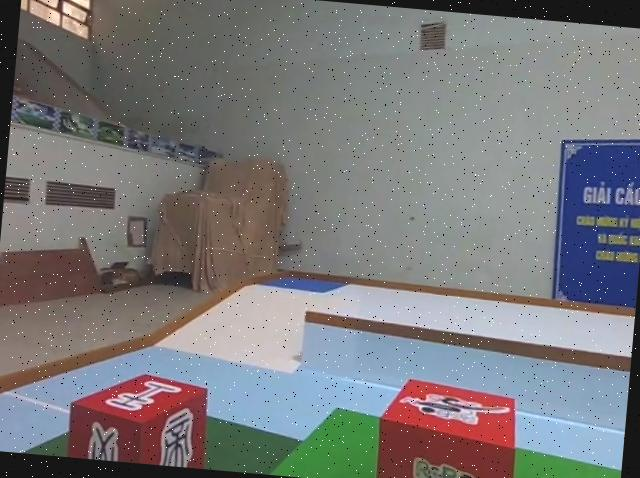R1: (369, 369, 525, 478)
R2 Fake: (58, 356, 214, 469)
